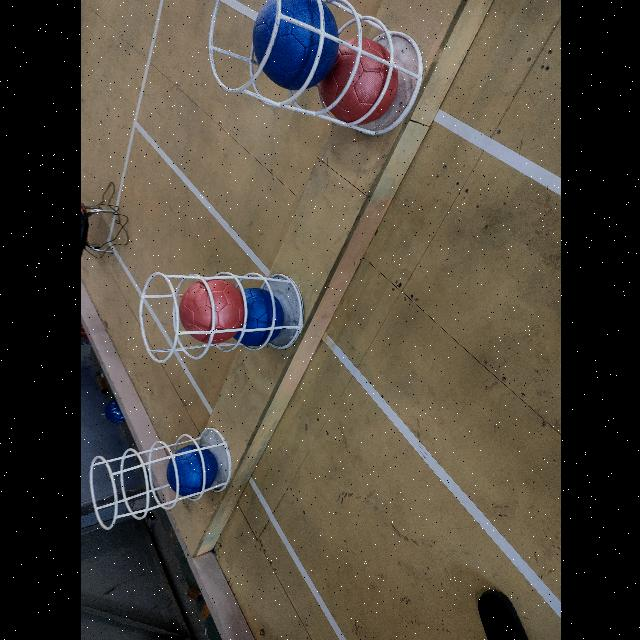B: (249, 0, 337, 90), (242, 284, 282, 352), (164, 444, 216, 496)
R: (332, 33, 398, 125), (180, 276, 240, 346)
